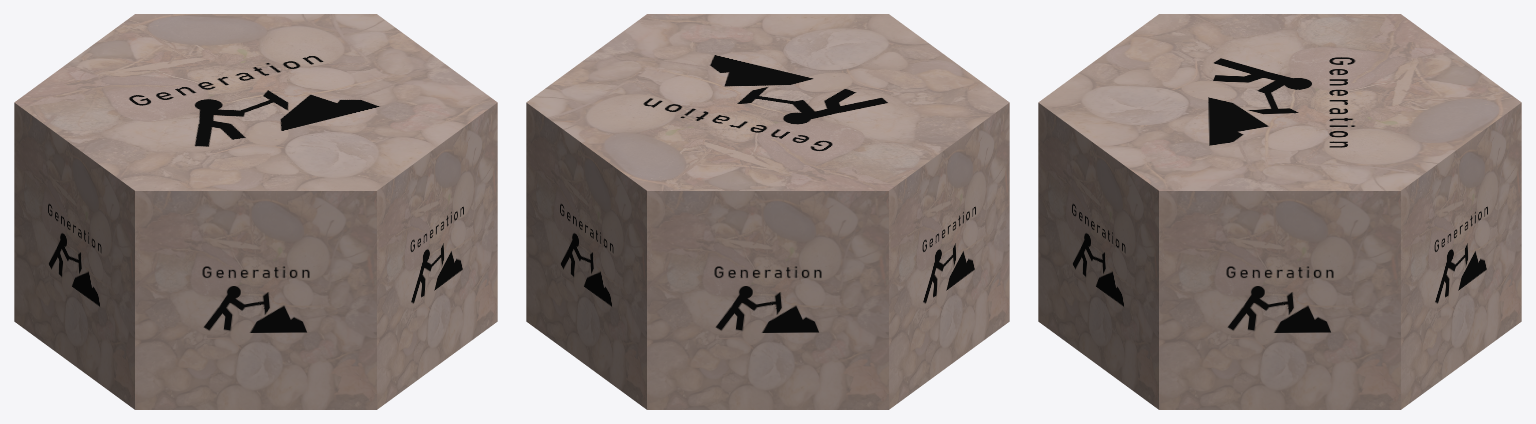
Rendered from Tile_Generation.fbx.
3 renders of one model, left to right at view 1: azimuth 30°, elevation 25°; view 2: azimuth 150°, elevation 25°; view 3: azimuth 270°, elevation 25°, orthographic.
Visible parts, largest first — view 1: Tile_Generation; view 2: Tile_Generation; view 3: Tile_Generation.
Part boxes in pixels (x1,y1,x2,y2): Tile_Generation: [14, 14, 497, 409]; Tile_Generation: [526, 14, 1009, 409]; Tile_Generation: [1038, 14, 1521, 409].
Size of the model in its own units: 1.73 by 1 by 2.
